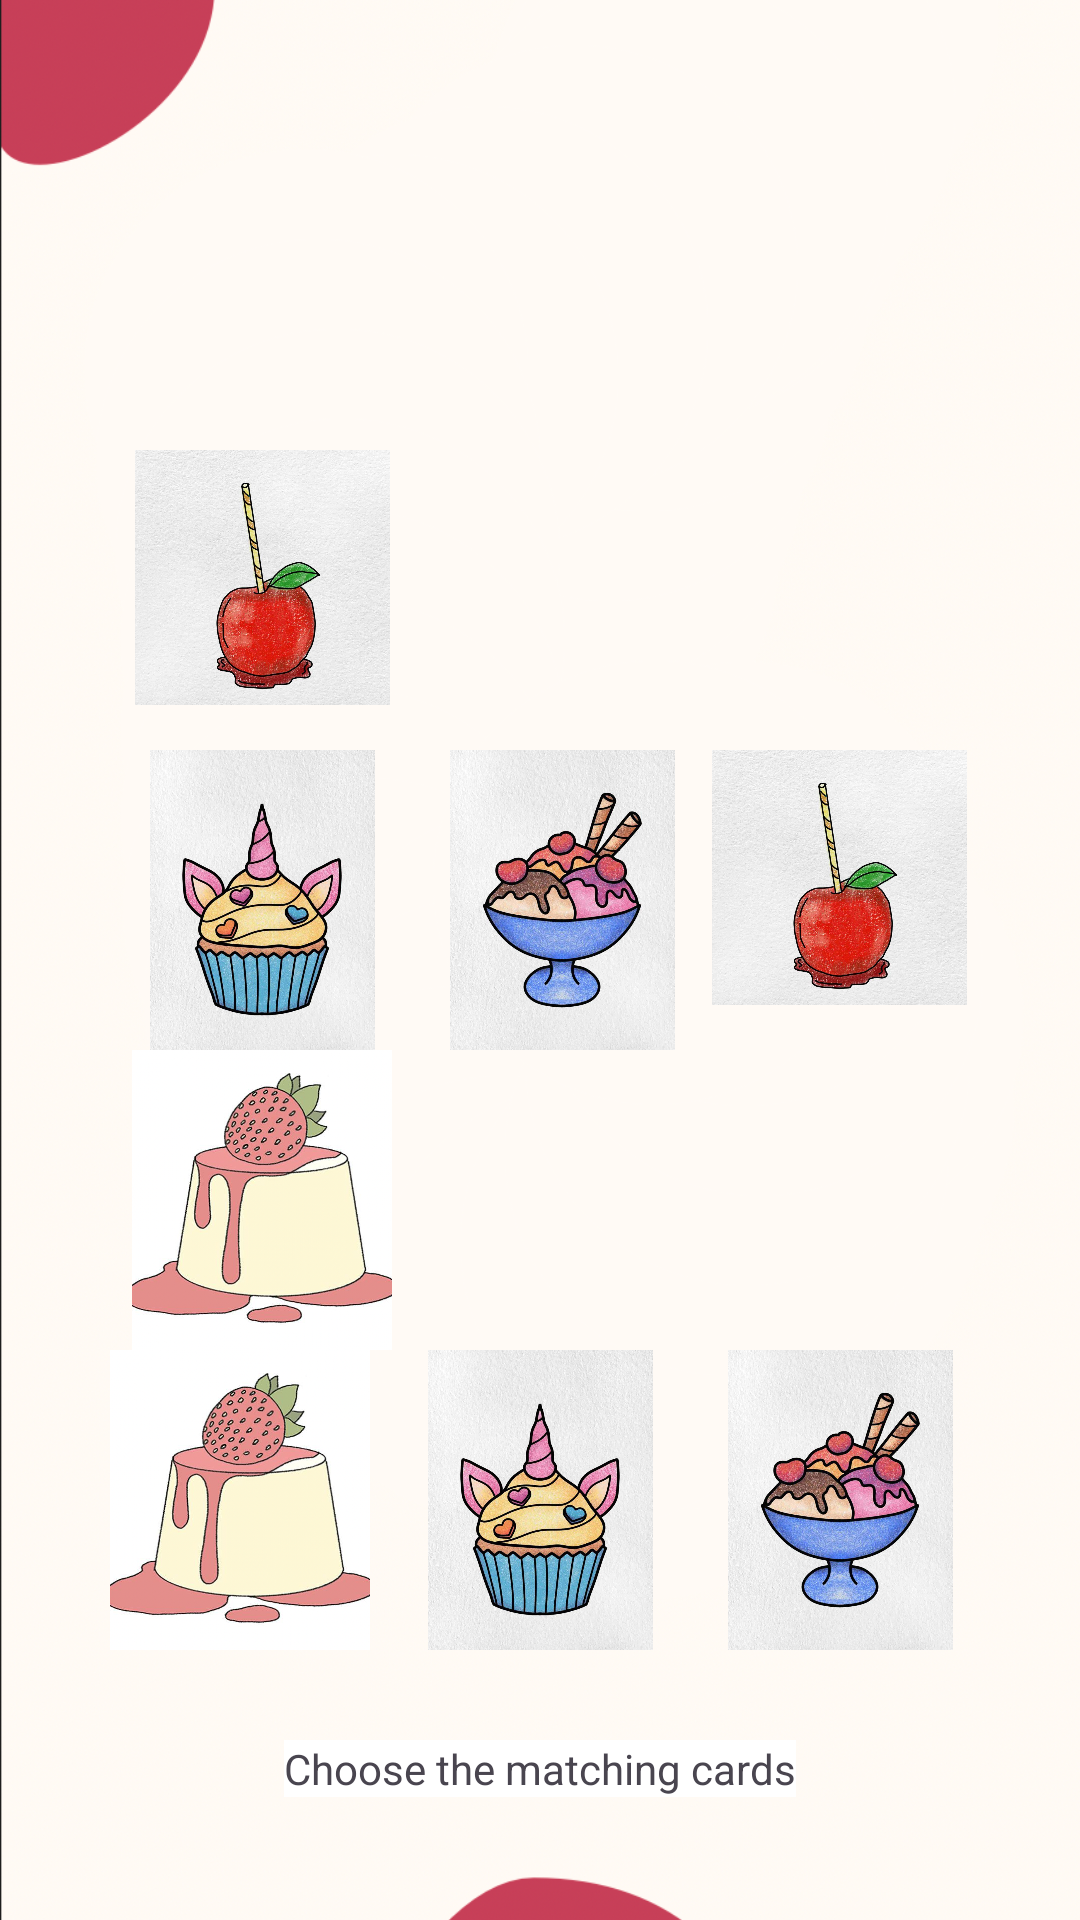

Icon bounding boxes for this 1080w x 1920h phone screenshot, format box=[x1, y1, x2, y2]:
cupcake: box=[150, 750, 375, 1050], box=[428, 1350, 653, 1650]
icecream: box=[450, 750, 675, 1050], box=[728, 1350, 953, 1650]
strwaberrycake: box=[132, 1073, 392, 1323], box=[110, 1373, 370, 1623]
